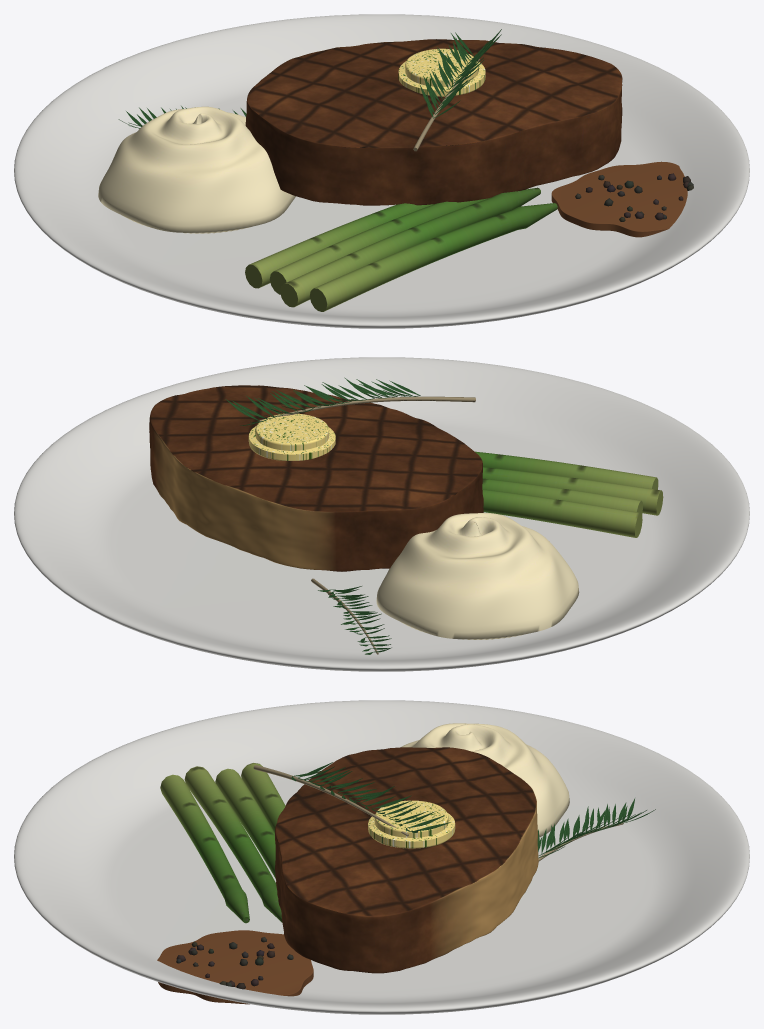
Rendered from ribeye.glb.
3 renders of one model, top to bottom at view 1: azimuth 30°, elevation 25°; view 2: azimuth 150°, elevation 25°; view 3: azimuth 270°, elevation 25°, orthographic.
Visible parts, largest first — view 1: base, ribeye, mashed, asparagus, pepper-sauce, garlic-butter, rosemary; view 2: base, ribeye, mashed, asparagus, rosemary, garlic-butter; view 3: base, ribeye, asparagus, pepper-sauce, mashed, rosemary, garlic-butter.
Boxes of the visible parts, <box> form: base: <box>14,14,749,328</box>; ribeye: <box>245,39,622,205</box>; mashed: <box>98,106,295,233</box>; asparagus: <box>245,187,557,311</box>; pepper-sauce: <box>551,161,693,237</box>; garlic-butter: <box>398,48,485,96</box>; rosemary: <box>118,29,501,151</box>; base: <box>14,357,749,671</box>; ribeye: <box>149,385,483,571</box>; mashed: <box>376,513,579,639</box>; asparagus: <box>475,451,663,537</box>; rosemary: <box>225,377,475,654</box>; garlic-butter: <box>248,413,335,460</box>; base: <box>14,700,749,1014</box>; ribeye: <box>275,747,538,973</box>; asparagus: <box>160,763,285,923</box>; pepper-sauce: <box>157,930,313,1004</box>; mashed: <box>401,723,569,837</box>; rosemary: <box>253,762,655,861</box>; garlic-butter: <box>368,800,455,848</box>.
Bounding box in the file's own units: 0.2979 × 0.0664 × 0.2979.
11 materials, 6 textured.
